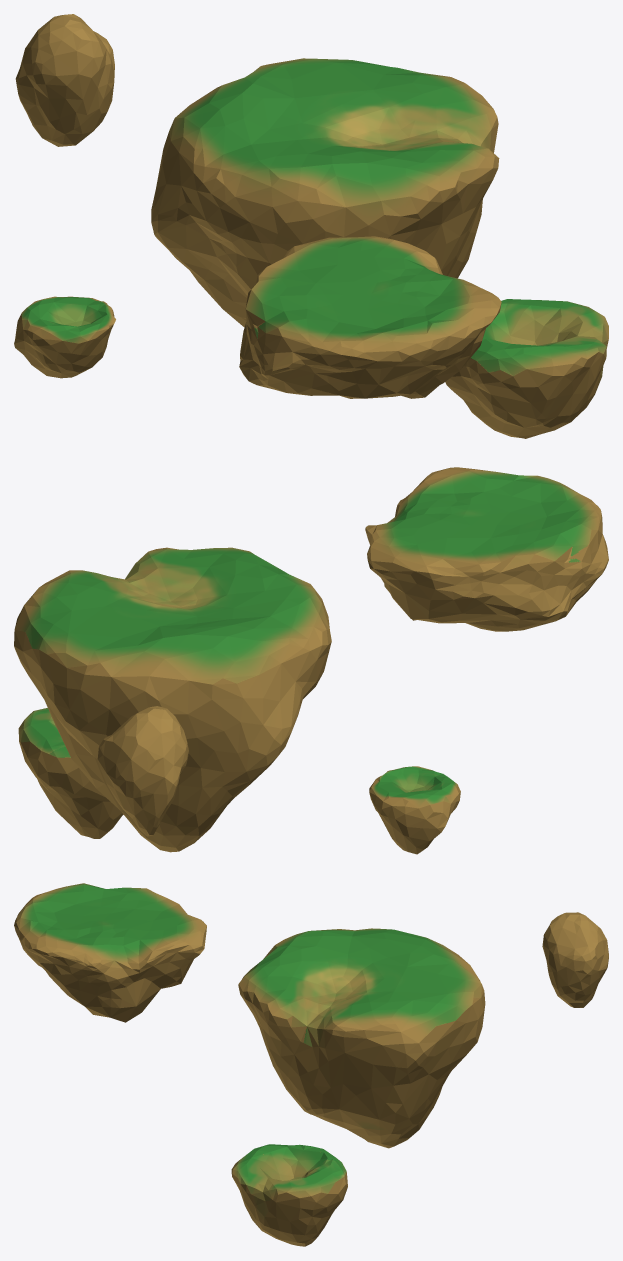
File: pisos.fbx
3 renders of one model, top to bottom at view 1: azimuth 30°, elevation 25°; view 2: azimuth 150°, elevation 25°; view 3: azimuth 270°, elevation 25°, orthographic. The views are drawn at different scales.
Parts seen in each view (by area): view 1: Icosphere.002, Icosphere.001, Icosphere.003, Icosphere.006, Icosphere.005; view 2: Icosphere.002, Icosphere.001, Icosphere.006, Icosphere.003, Icosphere.005; view 3: Icosphere.002, Icosphere.001, Icosphere.003, Icosphere.006.
Boxes of the visible parts, bbox=[...] form: Icosphere.002: bbox=[151, 58, 499, 327]; Icosphere.001: bbox=[239, 236, 501, 398]; Icosphere.003: bbox=[445, 299, 608, 438]; Icosphere.006: bbox=[15, 14, 114, 146]; Icosphere.005: bbox=[14, 296, 115, 378]; Icosphere.002: bbox=[14, 547, 331, 852]; Icosphere.001: bbox=[365, 467, 608, 631]; Icosphere.006: bbox=[97, 706, 188, 836]; Icosphere.003: bbox=[18, 707, 123, 838]; Icosphere.005: bbox=[369, 766, 460, 854]; Icosphere.002: bbox=[238, 928, 485, 1148]; Icosphere.001: bbox=[14, 883, 206, 1022]; Icosphere.003: bbox=[231, 1144, 347, 1246]; Icosphere.006: bbox=[542, 912, 608, 1007].
Bounding box in the file's own units: 3853 × 2397 × 5365.
1 material, 1 textured.
